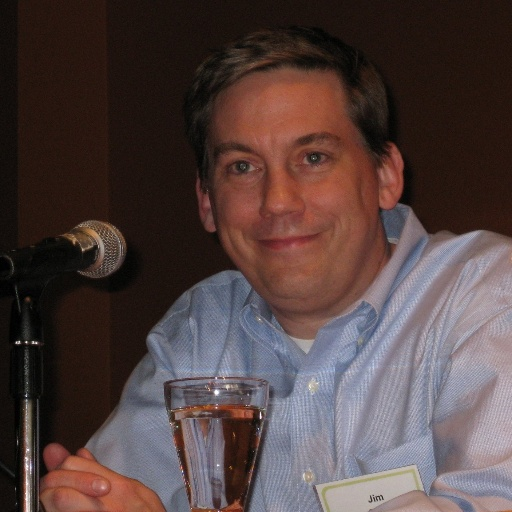hand: (55, 448, 165, 511)
